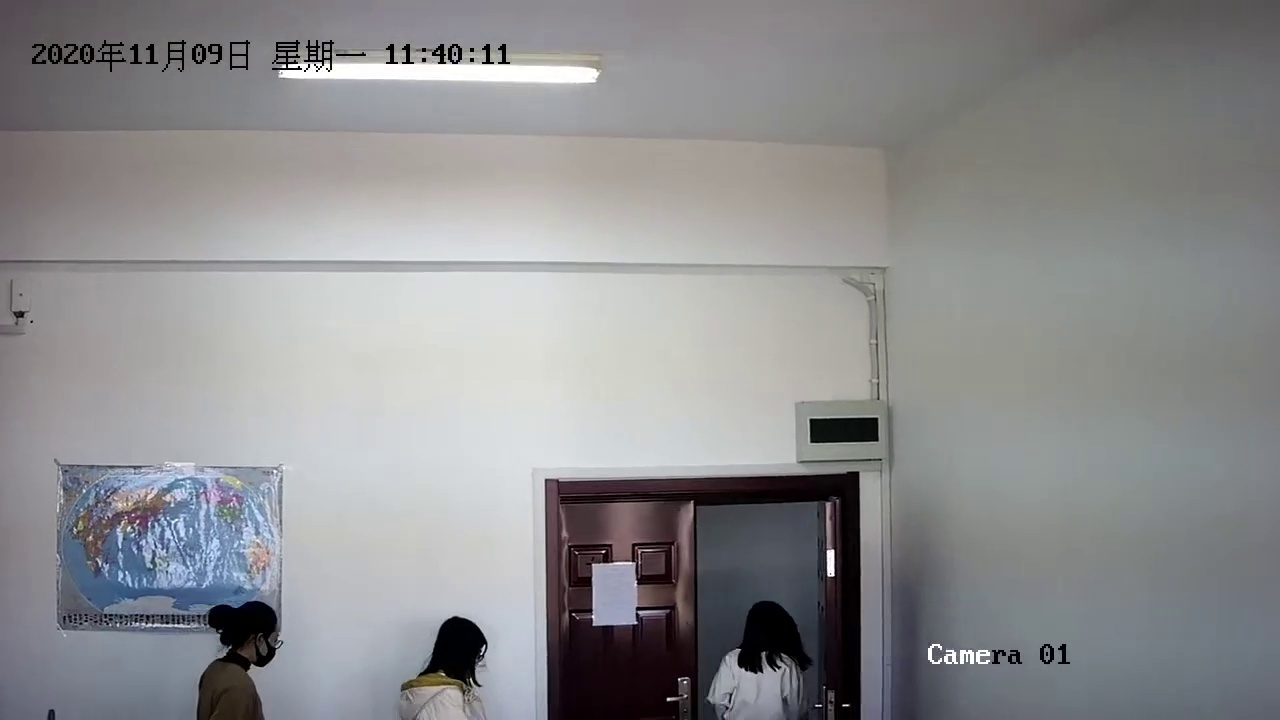mask: (219, 595, 288, 667)
